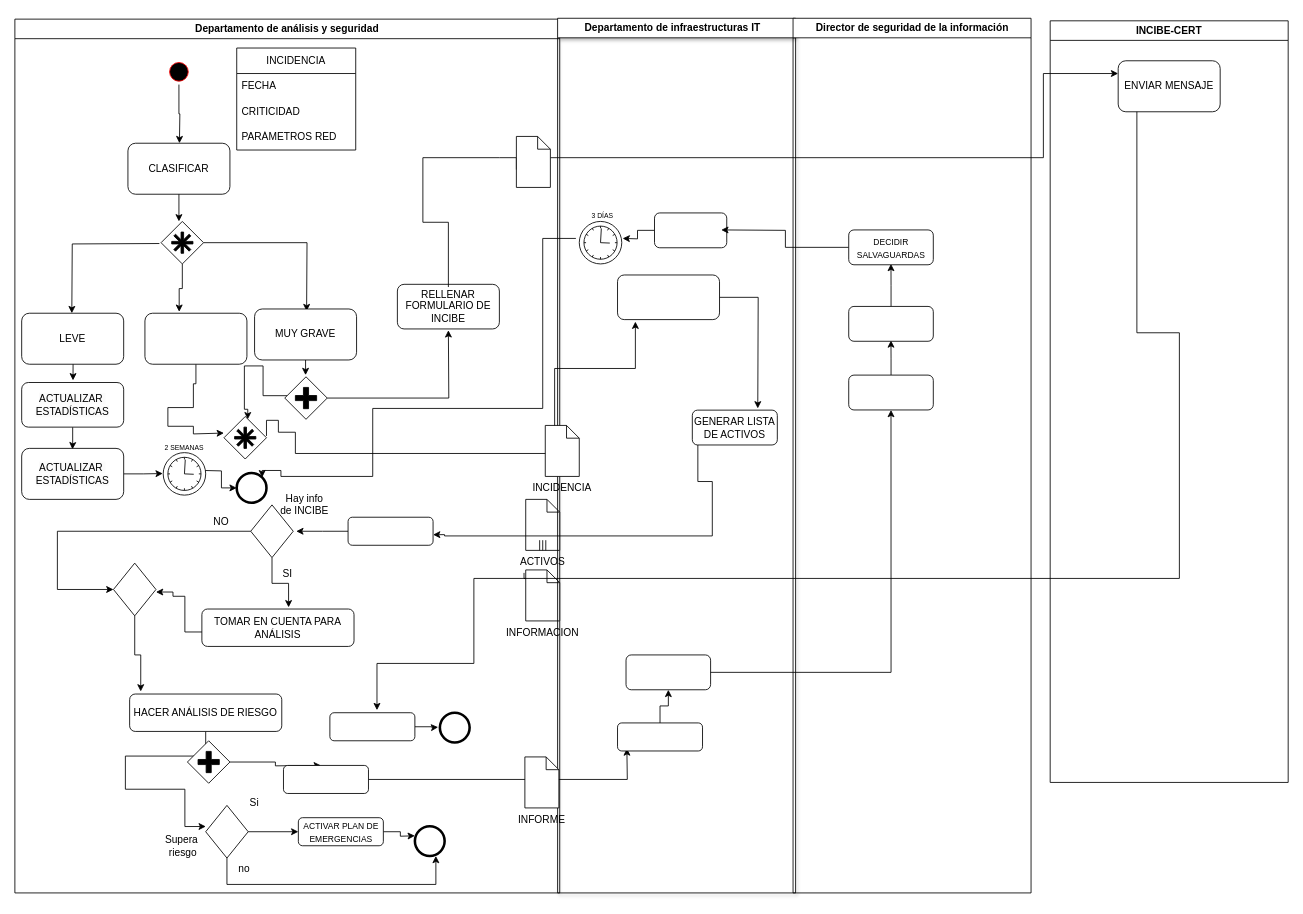
Some shapes in this 1303 by 914 pixel diagram are drawn without their labels. The centre of each missing label's shape, as x and y in pixels:
"ADJUNTAR INFORMACIÓN" goes at point (372, 726).
"CALIFICAR RIESGO" goes at point (890, 323).
"COMPLEMENTAR CON VALORACIÓN DE COSTES" goes at point (668, 672).
"COMUNICAR" goes at point (668, 297).
"ENVIAR INFORME COMPLETO" goes at point (890, 392).
"ENVIAR LISTA" goes at point (390, 530).
"GENERAR INFORME" goes at point (325, 779).
"GRAVE" goes at point (195, 338).
"IMPLEMENTAR SALVAGUARDAS" goes at point (690, 230).
"MENSAJE" goes at point (533, 161).
"RECIBIR INFORME" goes at point (660, 736).
